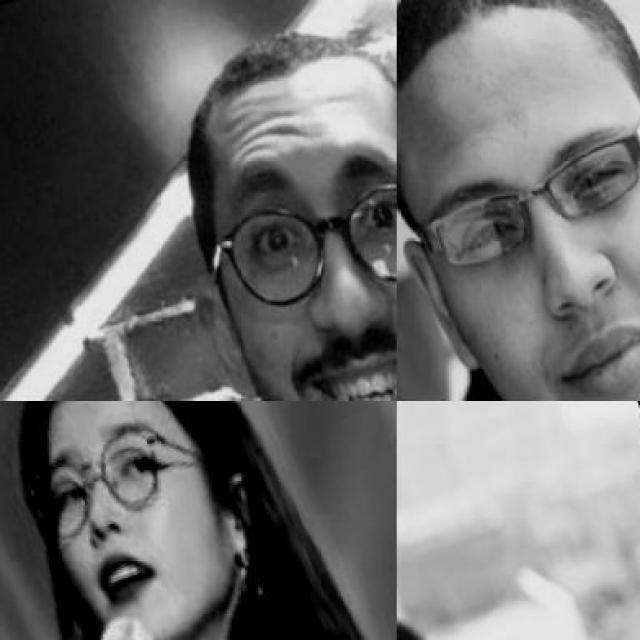Glasses: (396, 75, 640, 287), (0, 400, 248, 570), (204, 147, 395, 335)
